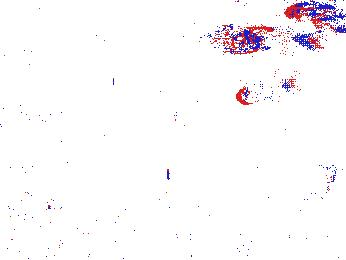X-ray fish: (196, 22, 262, 56), (94, 93, 142, 125)
red belly glassfish: (116, 34, 134, 60)
redtail glassfish: (234, 70, 300, 107), (252, 24, 325, 52), (284, 1, 346, 22), (319, 145, 346, 183)
